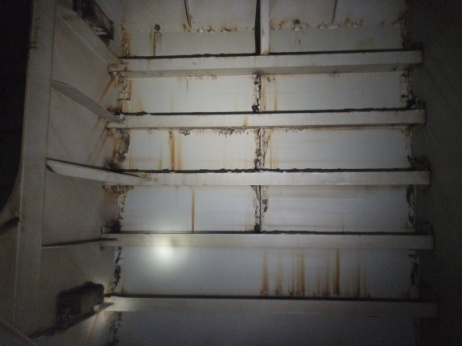corrosion: (327, 251, 376, 296), (100, 185, 135, 227), (251, 253, 287, 293), (251, 66, 278, 114), (161, 126, 189, 171), (288, 259, 321, 296), (104, 127, 134, 167), (244, 191, 276, 226), (96, 244, 123, 285), (112, 68, 137, 111), (272, 13, 334, 29), (188, 186, 207, 233), (199, 21, 253, 35), (255, 126, 271, 167), (112, 28, 133, 56), (146, 34, 169, 53)
